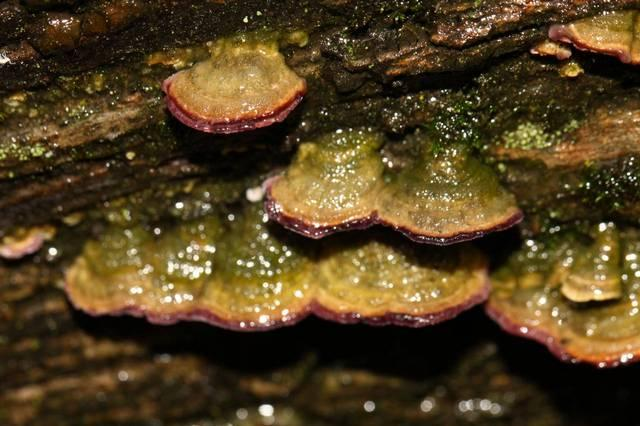Non-edible Mushroom: (0, 179, 640, 374), (262, 124, 524, 245), (160, 34, 307, 135)
